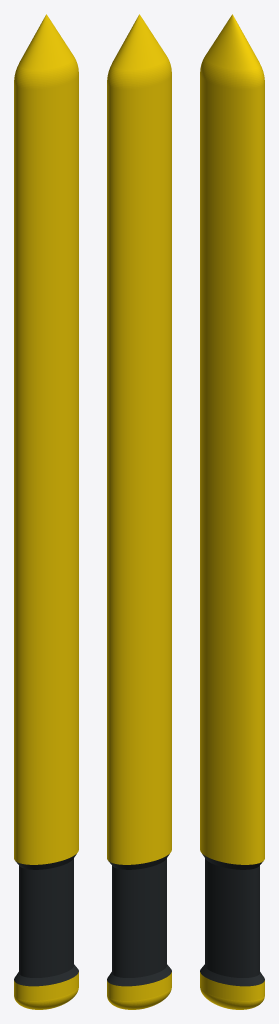
File: mechh2.fbx
The picture shows the model from 3 angles, left to right: view 1: azimuth 30°, elevation 25°; view 2: azimuth 210°, elevation 25°; view 3: azimuth 330°, elevation 25°; orthographic projection.
Visible parts, largest first — view 1: Sphere, Cone.002; view 2: Sphere, Cone.002; view 3: Sphere, Cone.002.
Boxes of the visible parts, x1,y1,x2,y2 form: Sphere: (14,14,78,1009); Cone.002: (14,854,78,986); Sphere: (107,14,171,1009); Cone.002: (107,854,171,986); Sphere: (200,14,264,1009); Cone.002: (200,854,264,986).
Size of the model in its own units: 205 by 3191 by 127.
